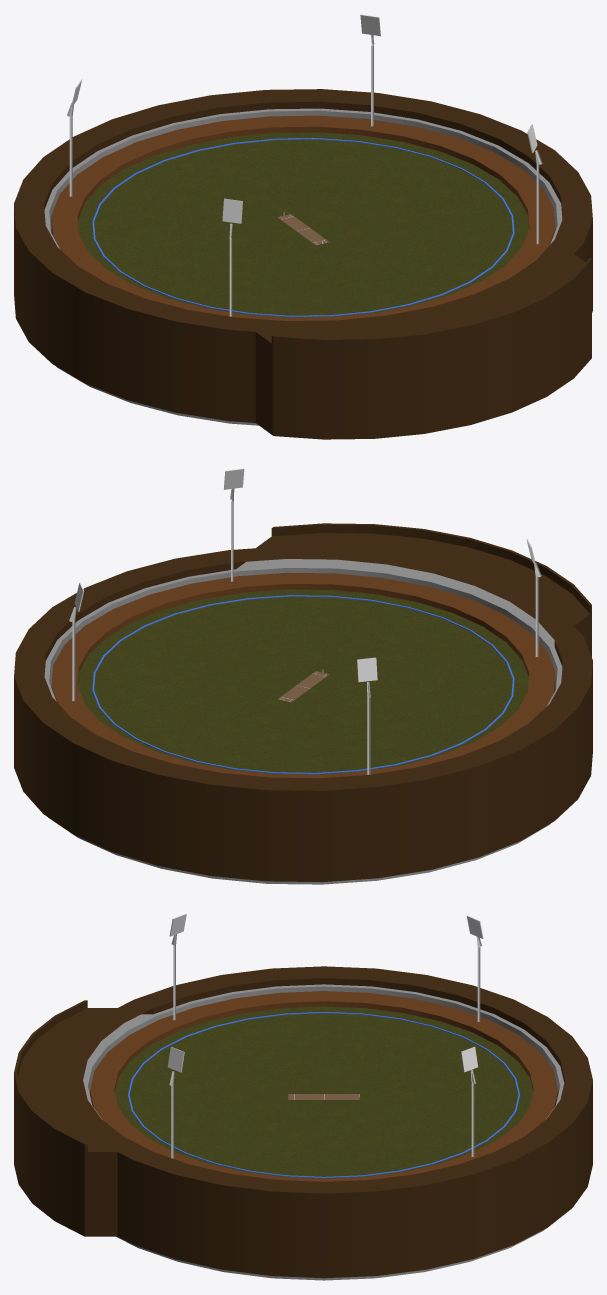
Rendered from cricket3.glb.
The picture shows the model from 3 angles, top to bottom: view 1: azimuth 30°, elevation 25°; view 2: azimuth 150°, elevation 25°; view 3: azimuth 270°, elevation 25°; orthographic projection. The views are drawn at different scales.
Parts seen in each view (by area): view 1: Cylinder.024, ground, Cylinder.018, Cylinder.023, boundary, Plane; view 2: Cylinder.024, ground, Cylinder.018, Cylinder.023, boundary, Plane; view 3: Cylinder.024, ground, Cylinder.018, Cylinder.023, boundary.
Boxes of the visible parts, x1=… form: Cylinder.024: x1=14, y1=89, x2=592, y2=439; ground: x1=78, y1=132, x2=528, y2=317; Cylinder.018: x1=51, y1=115, x2=555, y2=320; Cylinder.023: x1=44, y1=108, x2=562, y2=425; boundary: x1=92, y1=138, x2=514, y2=317; Plane: x1=278, y1=214, x2=329, y2=245; Cylinder.024: x1=14, y1=523, x2=592, y2=882; ground: x1=78, y1=589, x2=528, y2=774; Cylinder.018: x1=51, y1=572, x2=555, y2=778; Cylinder.023: x1=44, y1=559, x2=562, y2=884; boundary: x1=92, y1=595, x2=514, y2=774; Plane: x1=278, y1=671, x2=329, y2=702; Cylinder.024: x1=14, y1=966, x2=592, y2=1278; ground: x1=115, y1=1006, x2=533, y2=1178; Cylinder.018: x1=90, y1=991, x2=558, y2=1181; Cylinder.023: x1=83, y1=984, x2=564, y2=1280; boundary: x1=128, y1=1012, x2=519, y2=1178.
Bounding box in the file's own units: 26.94 × 10.31 × 29.
Materials: 7 (1 with a texture image).
